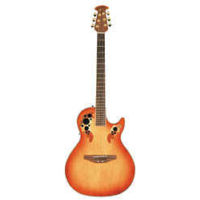guitar: (65, 4, 137, 197)
